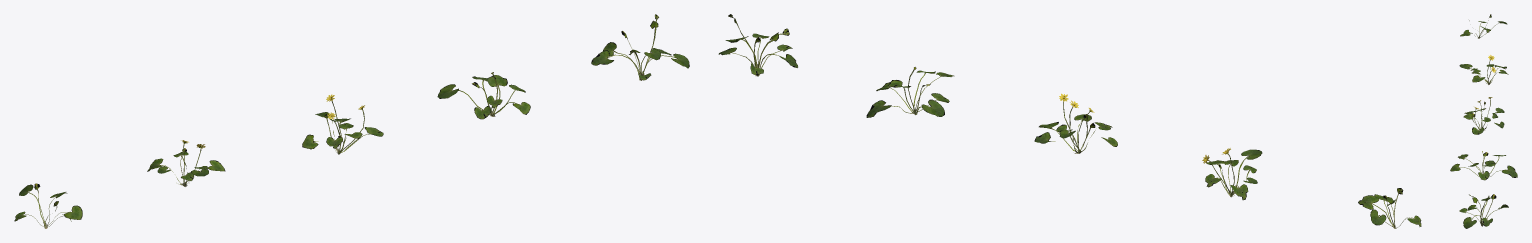
File: celandine_01.glb
3 renders of one model, left to right at view 1: azimuth 30°, elevation 25°; view 2: azimuth 150°, elevation 25°; view 3: azimuth 270°, elevation 25°, orthographic. The views are drawn at different scales.
Parts seen in each view (by area): view 1: celandine_01_b_LOD0, celandine_01_a_LOD0, celandine_01_c_LOD0, celandine_01_d_LOD0, celandine_01_e_LOD0; view 2: celandine_01_b_LOD0, celandine_01_c_LOD0, celandine_01_d_LOD0, celandine_01_a_LOD0, celandine_01_e_LOD0; view 3: celandine_01_b_LOD0, celandine_01_a_LOD0, celandine_01_c_LOD0, celandine_01_d_LOD0, celandine_01_e_LOD0.
Part boxes in pixels (left/top/right/bottom): celandine_01_b_LOD0: left=437, top=72, right=530, bottom=119; celandine_01_a_LOD0: left=591, top=14, right=689, bottom=80; celandine_01_c_LOD0: left=302, top=94, right=383, bottom=154; celandine_01_d_LOD0: left=147, top=140, right=225, bottom=186; celandine_01_e_LOD0: left=14, top=183, right=82, bottom=228; celandine_01_b_LOD0: left=866, top=67, right=954, bottom=117; celandine_01_c_LOD0: left=1034, top=93, right=1117, bottom=153; celandine_01_d_LOD0: left=1202, top=148, right=1262, bottom=200; celandine_01_a_LOD0: left=718, top=14, right=797, bottom=76; celandine_01_e_LOD0: left=1358, top=188, right=1421, bottom=228; celandine_01_b_LOD0: left=1450, top=151, right=1517, bottom=180; celandine_01_a_LOD0: left=1459, top=194, right=1508, bottom=228; celandine_01_c_LOD0: left=1463, top=97, right=1504, bottom=134; celandine_01_d_LOD0: left=1459, top=55, right=1508, bottom=84; celandine_01_e_LOD0: left=1460, top=14, right=1507, bottom=38.
Size of the model in its own units: 2.23 by 0.1858 by 0.3067.
1 material, 1 textured.
